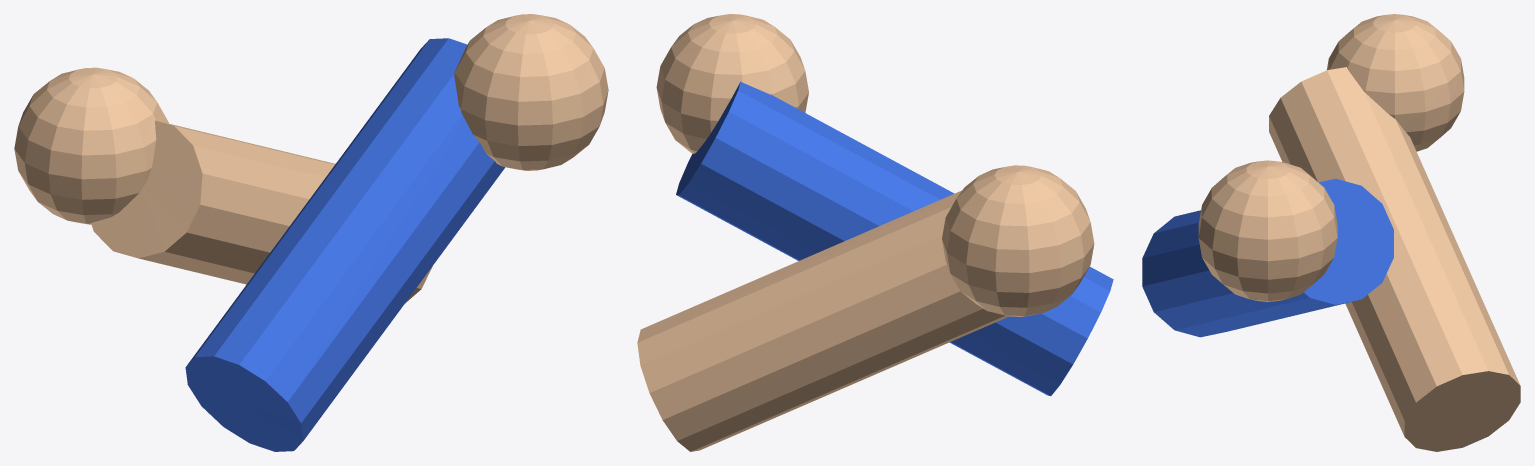
Rendered from Item_Hug.obj.
3 views of the same model, side by side, from view 1: azimuth 30°, elevation 25°; view 2: azimuth 150°, elevation 25°; view 3: azimuth 270°, elevation 25° (orthographic). The views are drawn at different scales.
Visible parts, largest first — view 1: Item_Hug; view 2: Item_Hug; view 3: Item_Hug.
Part boxes in pixels (x1,y1,x2,y2): Item_Hug: (14, 14, 608, 451); Item_Hug: (637, 14, 1113, 451); Item_Hug: (1142, 14, 1520, 451).
Size of the model in its own units: 0.66 by 0.4367 by 0.4776.
